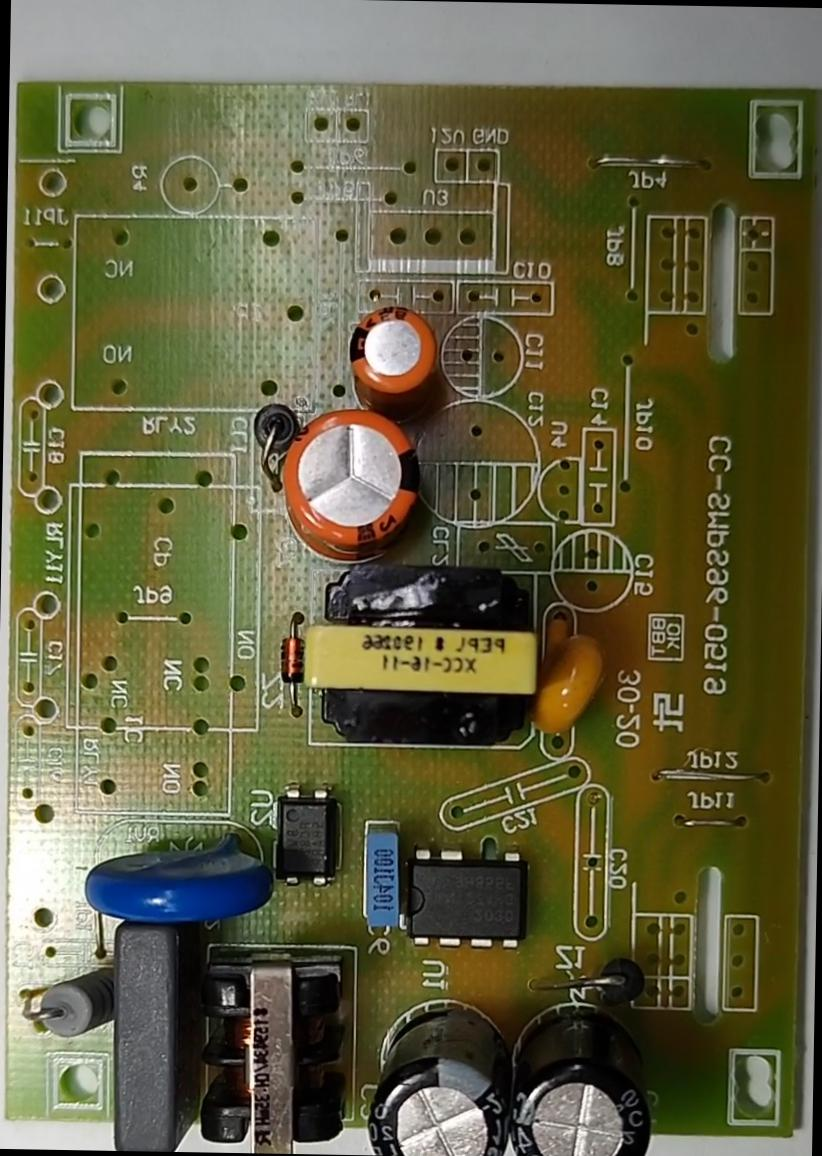Cap1: (254, 403, 435, 568)
Cap2: (332, 296, 458, 418)
Cap3: (354, 987, 526, 1155)
Cap4: (495, 973, 673, 1155)
MOSFET: (388, 838, 542, 957)
Mov: (70, 824, 290, 938)
Resistor: (11, 950, 116, 1053)
Transformer: (295, 556, 555, 756), (190, 931, 348, 1154)
